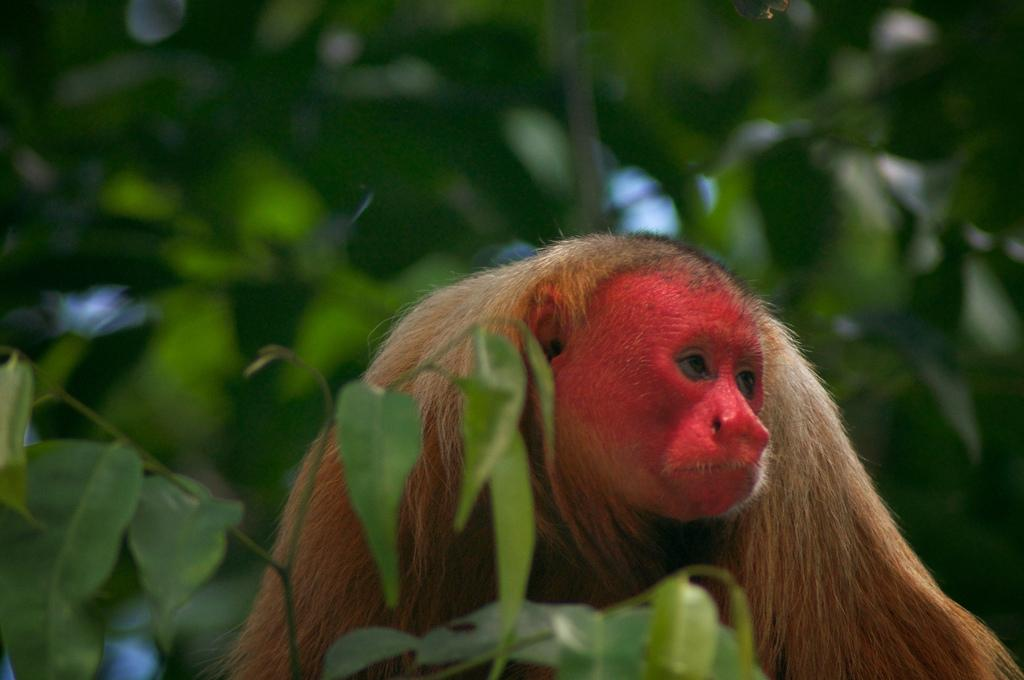monkey: (234, 233, 1008, 680)
